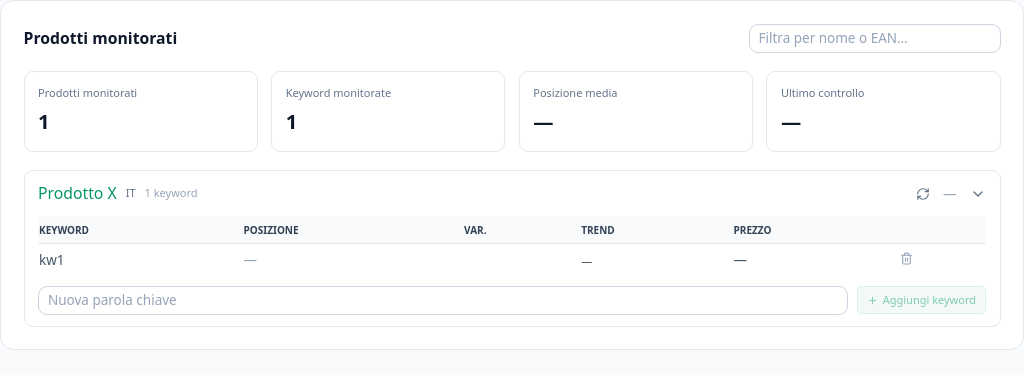
Test: RedcareTrackedKeywords › lets the user manually refresh a product's position without expanding it, then reloads the list
Expected: the text "Prodotto X" is shown, [38,182,117,205]
Click the button named "Aggiorna posizione Prodotto X".
click(922, 194)  # box [916,186,930,200]
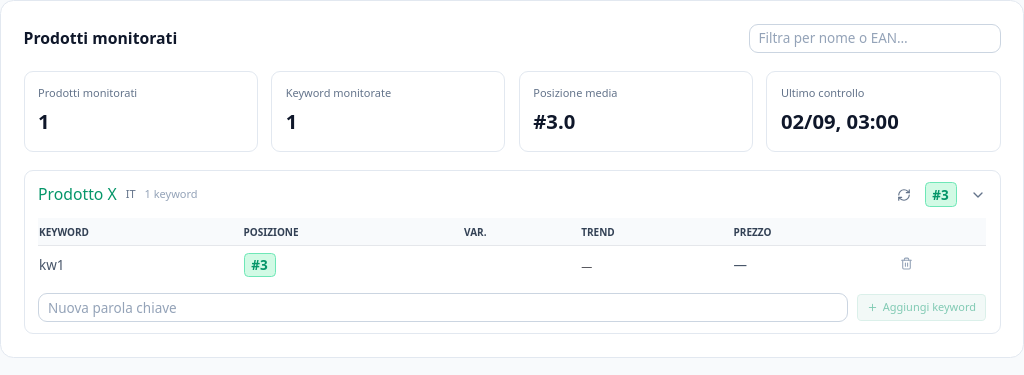
Now the text "#3" is shown 2 times, box [924,182,956,207]; [244,253,276,277]
